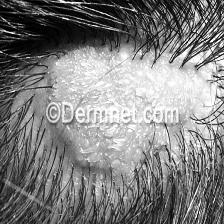Benign Marking or Mole: (44, 55, 195, 143)
